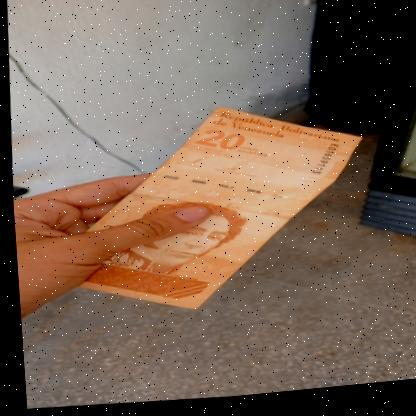twenty-front-vef: (63, 95, 371, 327)
